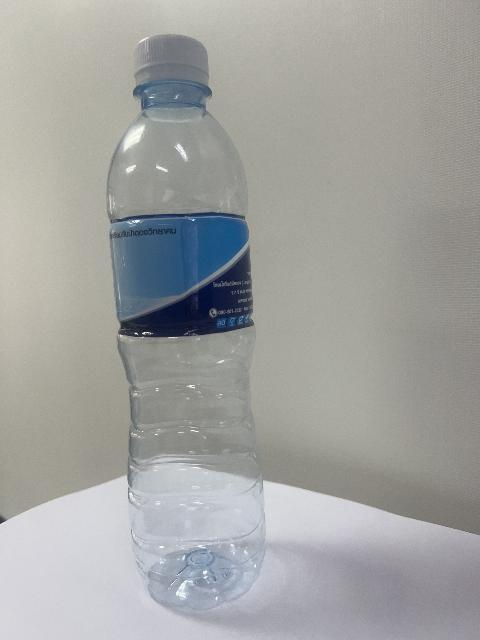bottle: (108, 35, 264, 609)
